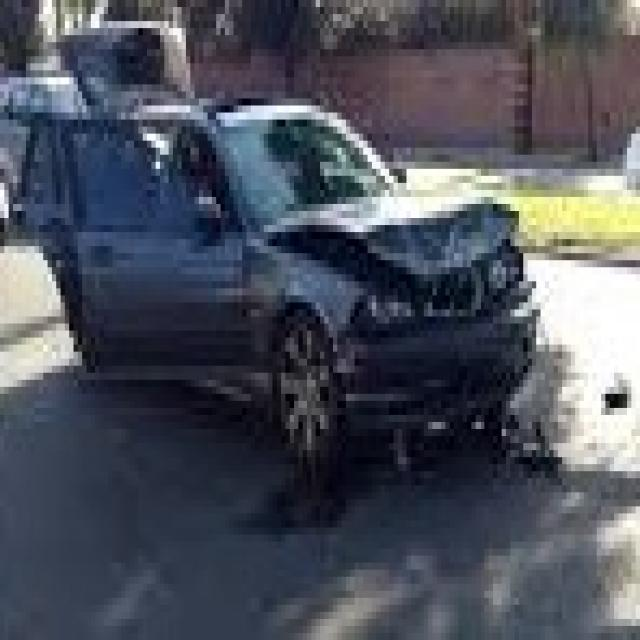severe: (292, 204, 544, 416)
